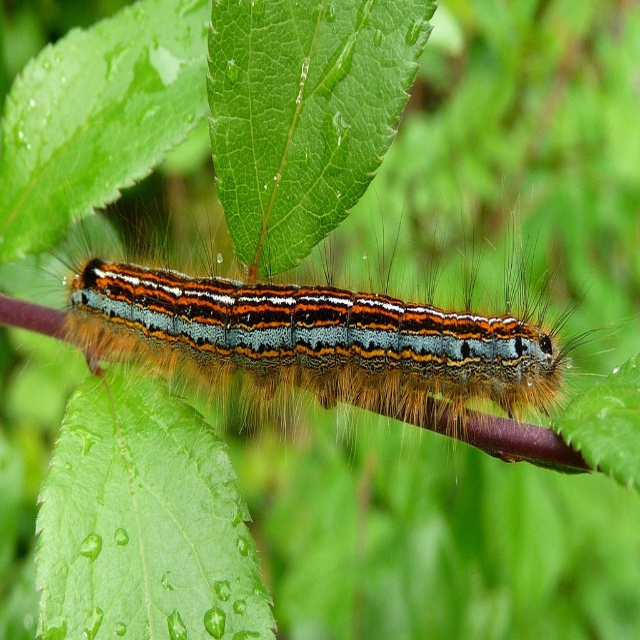Caterpillar: (14, 172, 640, 489)
